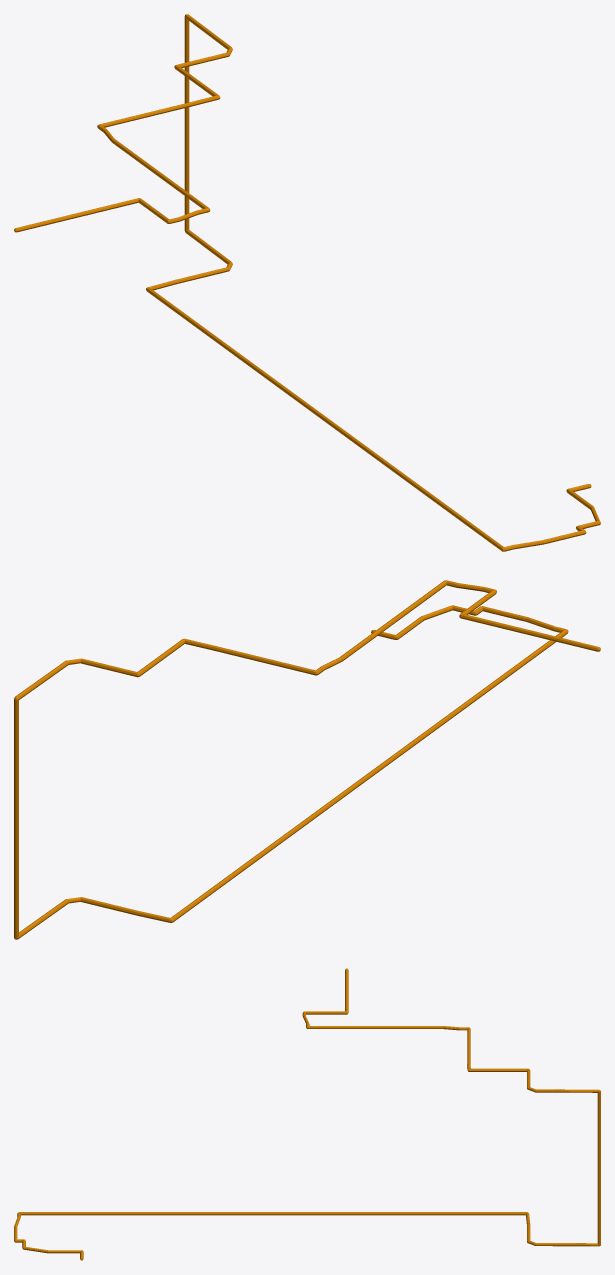
The picture shows the model from 3 angles, top to bottom: view 1: azimuth 30°, elevation 25°; view 2: azimuth 150°, elevation 25°; view 3: azimuth 270°, elevation 25°; orthographic projection. The views are drawn at different scales.
Bounding box in the file's own units: 1910 × 1020 × 3465.
